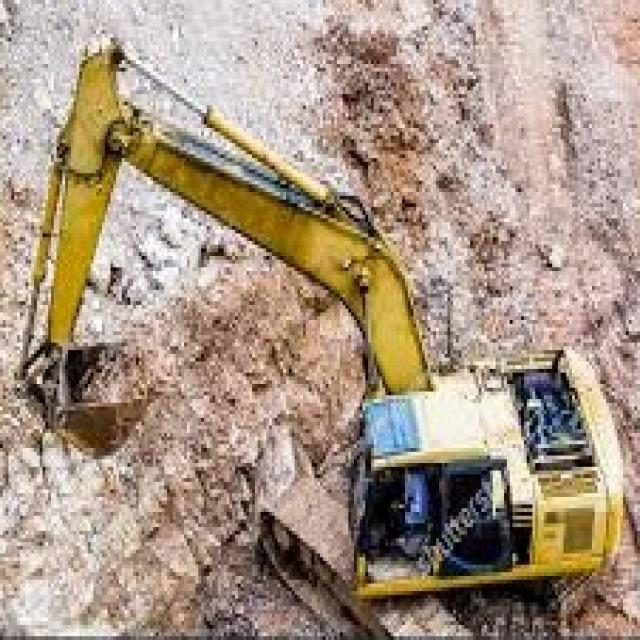excavator: (32, 47, 616, 599)
